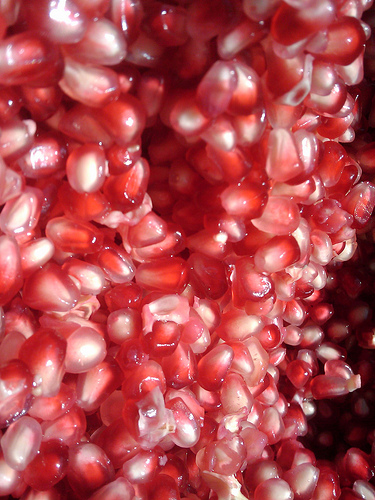pomogranate: (0, 0, 373, 497)
